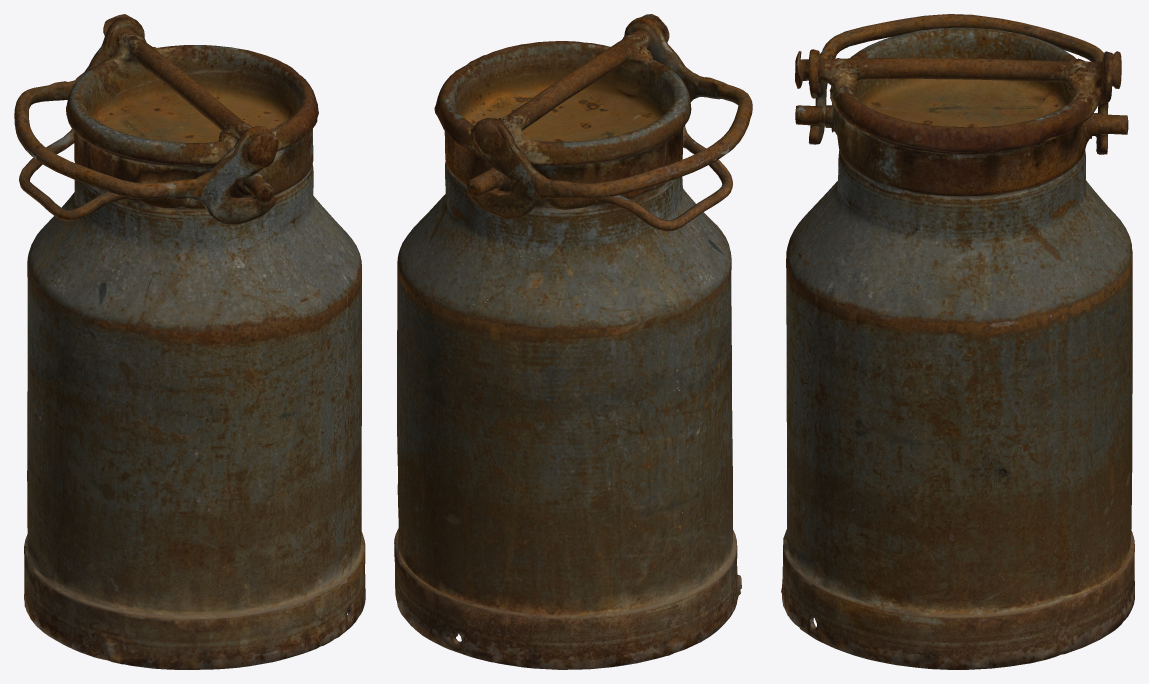
Rendered from Rusty_Milk_Churn.glb.
The picture shows the model from 3 angles, left to right: view 1: azimuth 30°, elevation 25°; view 2: azimuth 150°, elevation 25°; view 3: azimuth 270°, elevation 25°; orthographic projection. The views are drawn at different scales.
Parts seen in each view (by area): view 1: Rusty_Metal_Milk_Churn_LOD0_ukoschvbw; view 2: Rusty_Metal_Milk_Churn_LOD0_ukoschvbw; view 3: Rusty_Metal_Milk_Churn_LOD0_ukoschvbw.
Boxes of the visible parts, x1,y1,x2,y2 form: Rusty_Metal_Milk_Churn_LOD0_ukoschvbw: (14, 14, 365, 669); Rusty_Metal_Milk_Churn_LOD0_ukoschvbw: (394, 14, 752, 669); Rusty_Metal_Milk_Churn_LOD0_ukoschvbw: (781, 14, 1134, 669).
Bounding box in the file's own units: 23.65 × 38.84 × 22.82.
Materials: 1 (1 with a texture image).
